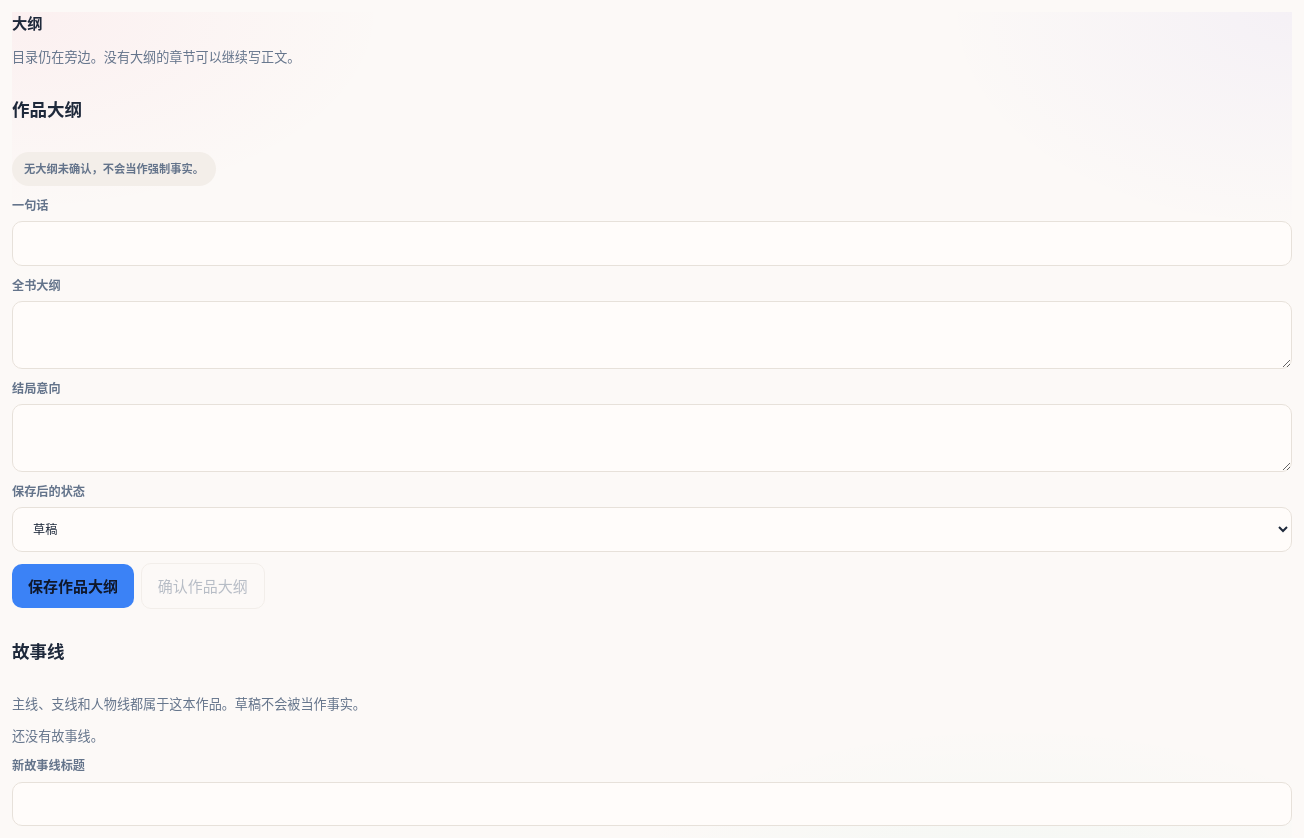
Test: OutlinePanel › saves a draft novel outline and confirms it without treating the draft as fact
Expected: the text "无大纲" is shown, [24,160,58,178]
Expected: the text "未确认，不会当作强制事实。" is shown, [58,160,204,178]
Type "城门关早了" into the field named "作品大纲一句话".
click(652, 243); type("城门关早了")  # box [12,221,1292,266]
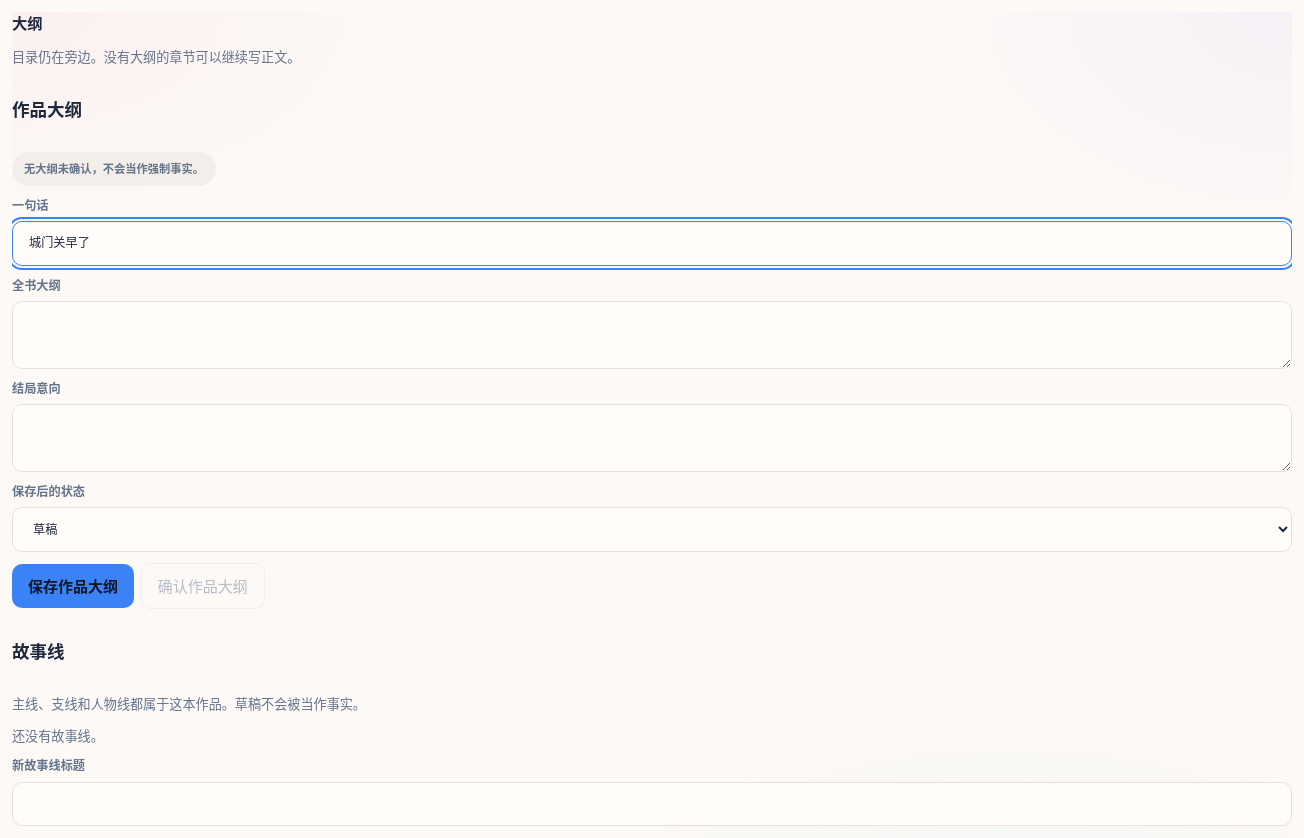
Click the button "保存作品大纲".
click(73, 586)  # box [12,564,134,608]
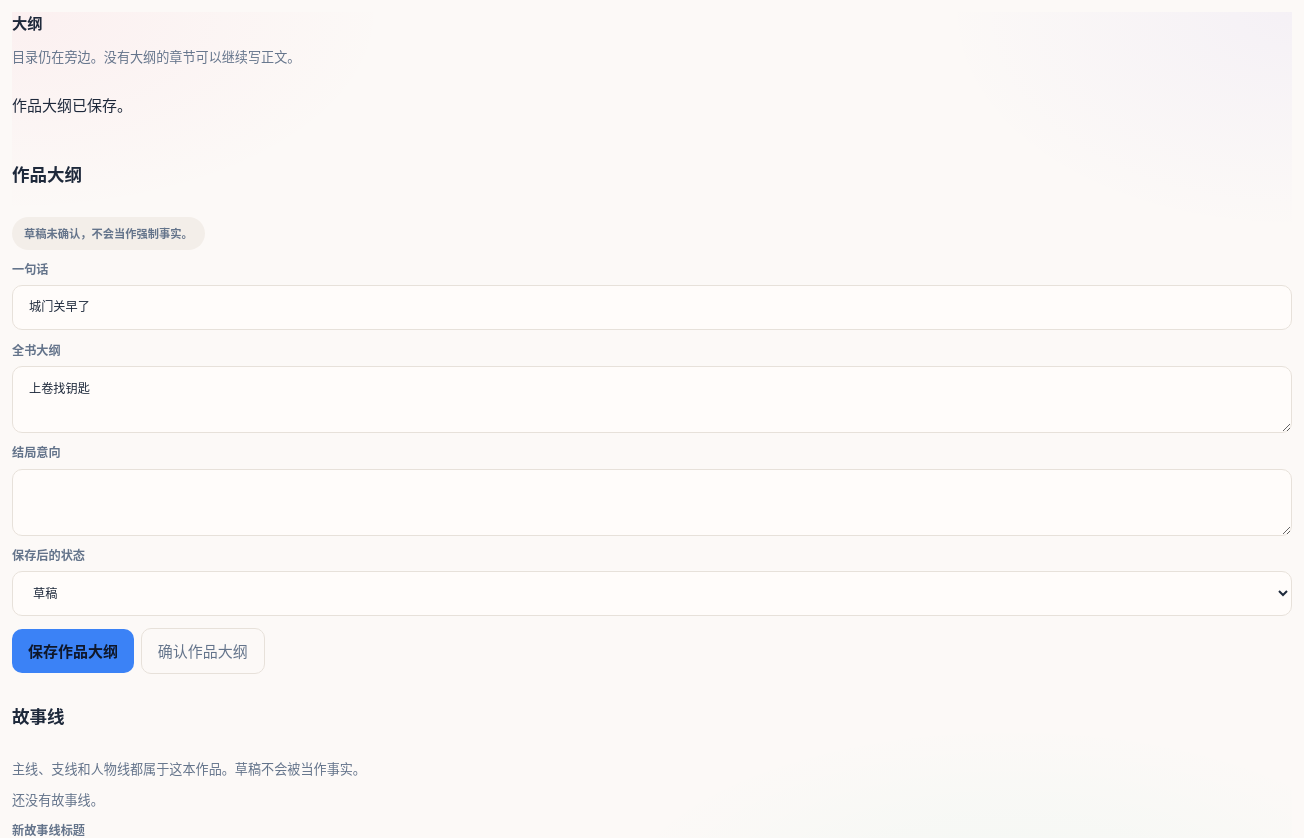
Expected: the text "未确认，不会当作强制事实。" is shown, [46,225,193,242]
Expected: the text "草稿" is shown, [24,225,46,242]
Click the button "确认作品大纲".
click(203, 651)  # box [141,628,265,674]
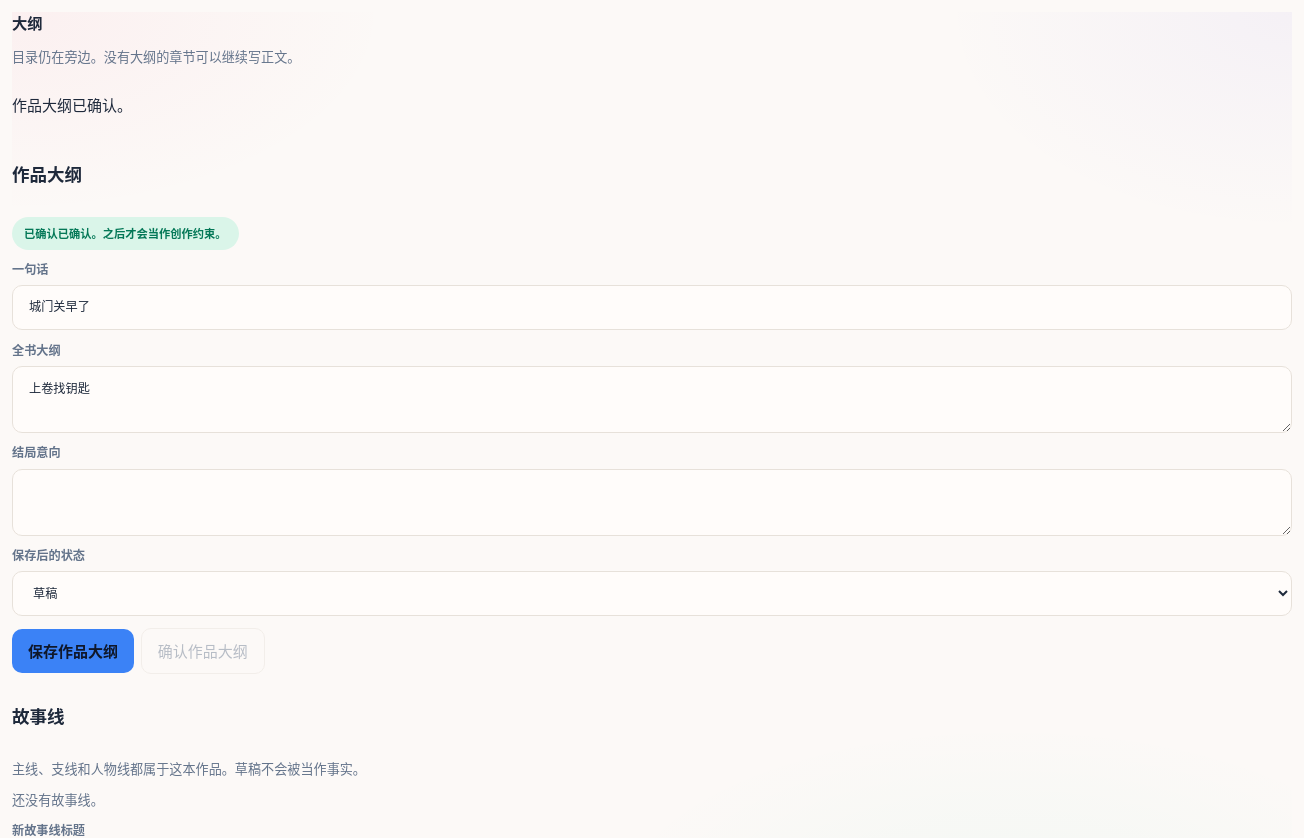
Expected: the text "已确认。之后才会当作创作约束。" is shown, [58,225,227,242]
